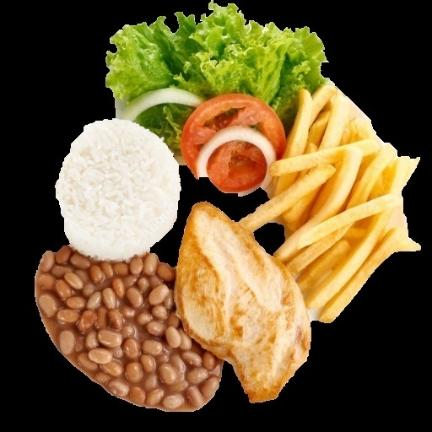chicken: (174, 202, 310, 402)
potato: (240, 84, 420, 321)
rice: (56, 120, 181, 260)
salad: (105, 2, 327, 132), (136, 103, 192, 154)
tomato: (35, 246, 223, 411), (181, 94, 285, 177), (205, 138, 267, 192)
